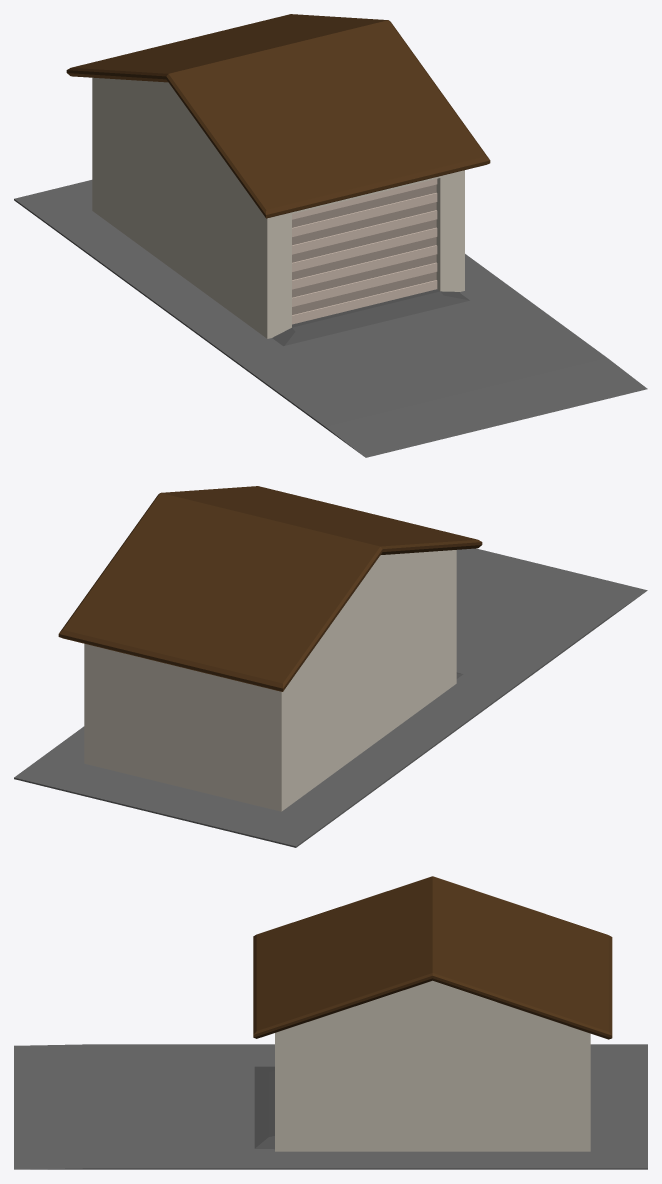
Rendered from garage_1.fbx.
The picture shows the model from 3 angles, top to bottom: view 1: azimuth 30°, elevation 25°; view 2: azimuth 150°, elevation 25°; view 3: azimuth 270°, elevation 25°; orthographic projection. The views are drawn at different scales.
Parts seen in each view (by area): view 1: garage_1; view 2: garage_1; view 3: garage_1.
Part boxes in pixels (x1,y1,x2,y2): garage_1: [14, 14, 647, 457]; garage_1: [14, 486, 647, 847]; garage_1: [14, 876, 647, 1169].
Bounding box in the file's own units: 800 × 557 × 1729.
